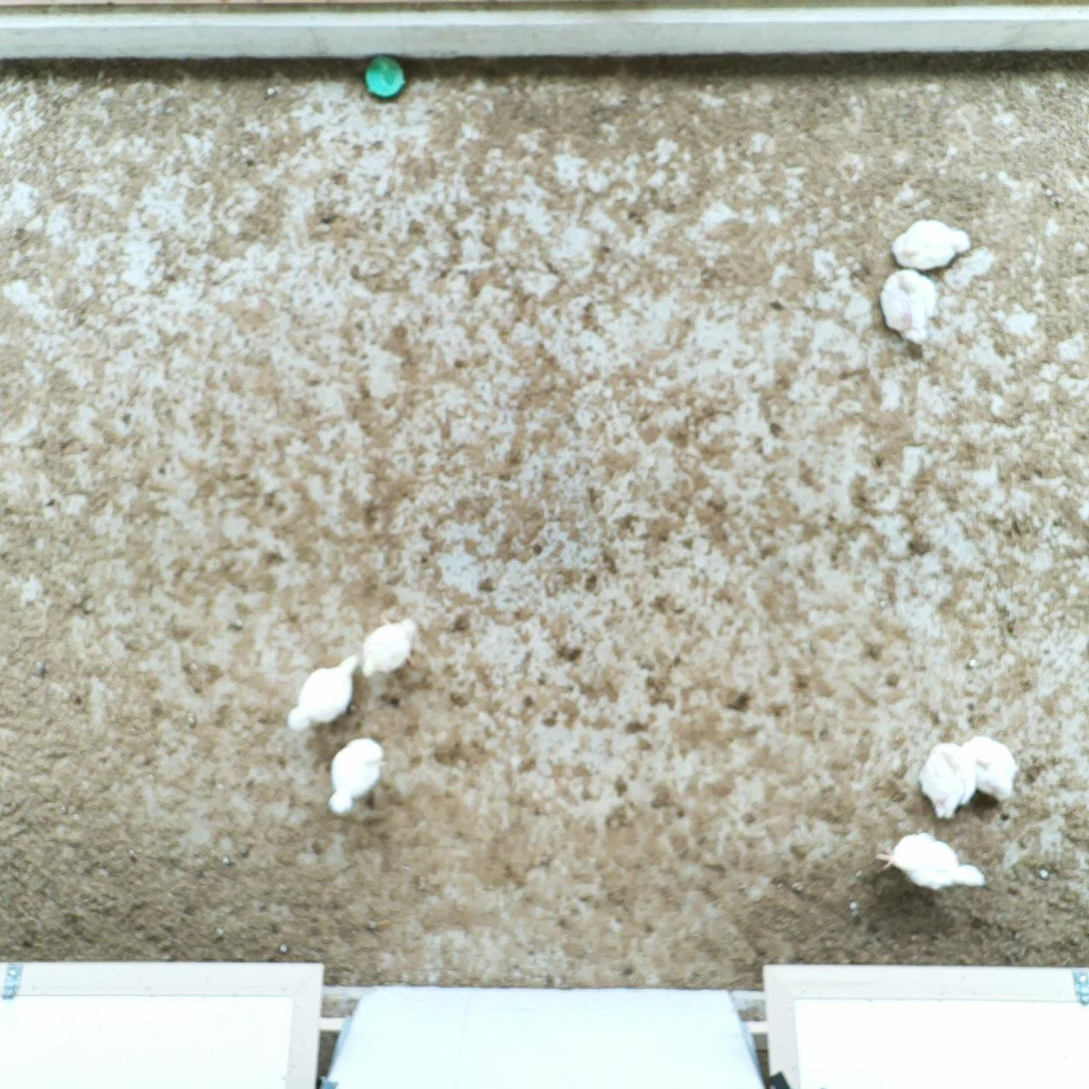chicken: (874, 828, 988, 898), (285, 651, 362, 734), (913, 739, 977, 824), (322, 736, 388, 817), (889, 216, 974, 277), (955, 732, 1022, 801), (881, 267, 937, 348), (358, 615, 422, 682)
